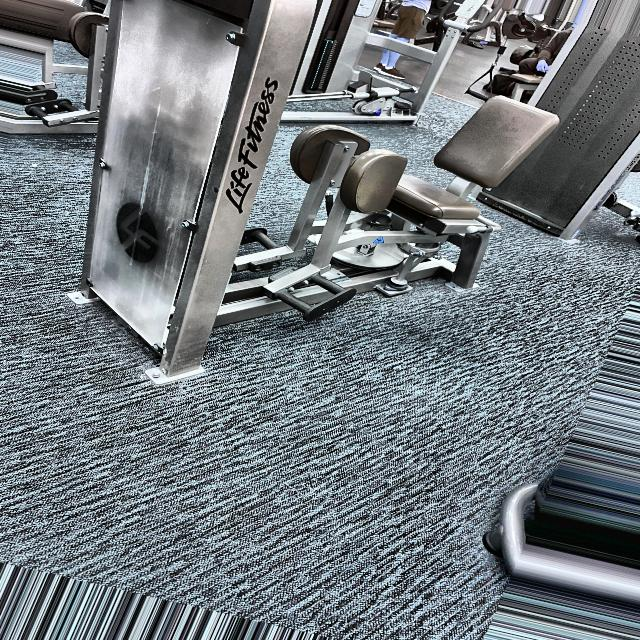hip_adduction_machine: (232, 100, 574, 336), (289, 111, 465, 323)
